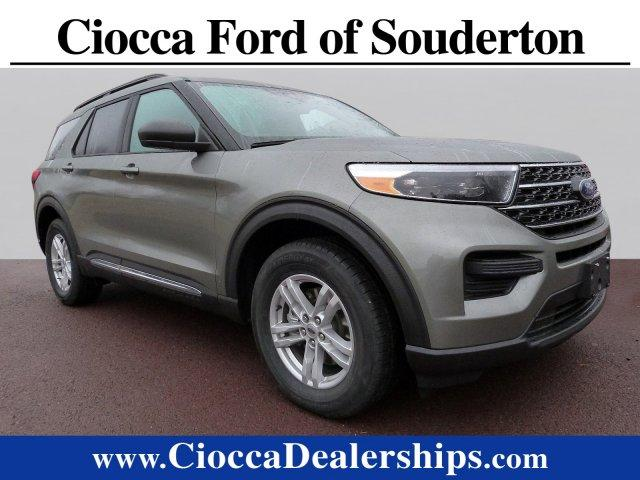Ford Explorer: (28, 70, 616, 423)
